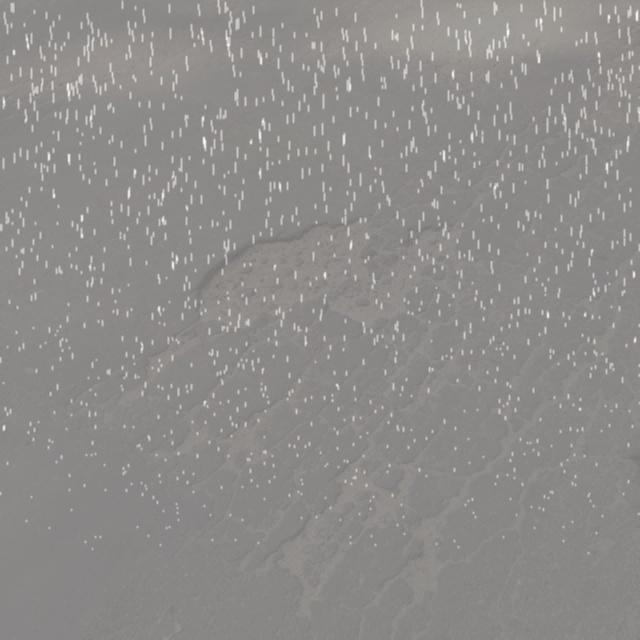Pothole: (188, 184, 396, 343)
